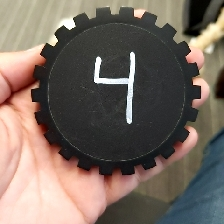gear: (29, 5, 203, 177)
